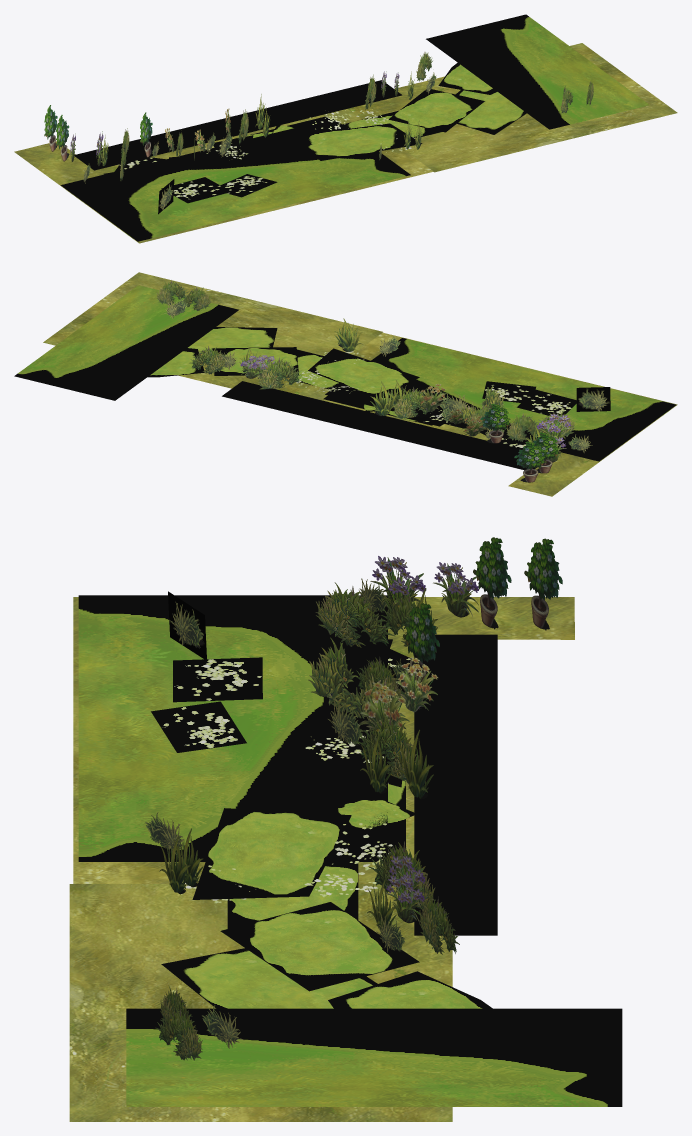
File: K1_tongyicao2.FBX
3 renders of one model, top to bottom at view 1: azimuth 30°, elevation 25°; view 2: azimuth 150°, elevation 25°; view 3: azimuth 270°, elevation 25°, orthographic. The views are drawn at different scales.
Visible parts, largest first — view 1: k1_weeds_caoping065, k1_weeds_caoping075, k1_weeds_caoping066, k1_weeds_caoping026, k1_weeds_caoping048, k1_weeds_caoping022, k1_zacao_2599, k1_weeds_caoping024, k1_weeds_caoping045, k1_weeds_caoping021, k1_zacao_2661, k1_zacao_2704 (+4 smaller); view 2: k1_weeds_caoping065, k1_weeds_caoping066, k1_weeds_caoping075, k1_weeds_caoping026, k1_weeds_caoping048, k1_zacao_2599, k1_weeds_caoping024, k1_zacao_2661, k1_zacao_2704, k1_weeds_caoping022, k1_zacao_2605, k1_zacao_2636 (+11 smaller); view 3: k1_weeds_caoping065, k1_weeds_caoping066, k1_weeds_caoping075, k1_weeds_caoping026, k1_weeds_caoping048, k1_weeds_caoping022, k1_zacao_2599, k1_weeds_caoping024, k1_zacao_2661, k1_weeds_caoping045, k1_weeds_caoping021, k1_zacao_2636 (+16 smaller).
Boxes of the visible parts, left/top/right/bottom form: k1_weeds_caoping065: left=61, top=119, right=410, bottom=241; k1_weeds_caoping075: left=14, top=43, right=677, bottom=243; k1_weeds_caoping066: left=426, top=14, right=649, bottom=129; k1_weeds_caoping026: left=74, top=80, right=402, bottom=170; k1_weeds_caoping048: left=296, top=123, right=422, bottom=160; k1_weeds_caoping022: left=389, top=89, right=484, bottom=132; k1_zacao_2599: left=158, top=174, right=277, bottom=214; k1_weeds_caoping024: left=456, top=90, right=526, bottom=134; k1_weeds_caoping045: left=438, top=62, right=497, bottom=94; k1_weeds_caoping021: left=342, top=110, right=442, bottom=137; k1_zacao_2661: left=204, top=94, right=265, bottom=159; k1_zacao_2704: left=309, top=71, right=414, bottom=152; k1_weeds_caoping065: left=325, top=338, right=676, bottom=461; k1_weeds_caoping066: left=14, top=285, right=238, bottom=400; k1_weeds_caoping075: left=43, top=272, right=677, bottom=496; k1_weeds_caoping026: left=222, top=381, right=537, bottom=470; k1_weeds_caoping048: left=308, top=348, right=419, bottom=397; k1_zacao_2599: left=482, top=381, right=610, bottom=415; k1_weeds_caoping024: left=188, top=327, right=277, bottom=354; k1_zacao_2661: left=370, top=381, right=468, bottom=424; k1_zacao_2704: left=252, top=351, right=369, bottom=393; k1_weeds_caoping022: left=212, top=347, right=298, bottom=375; k1_zacao_2605: left=156, top=280, right=211, bottom=318; k1_zacao_2636: left=506, top=410, right=575, bottom=441; k1_weeds_caoping065: left=78, top=595, right=387, bottom=861; k1_weeds_caoping066: left=126, top=1008, right=622, bottom=1106; k1_weeds_caoping075: left=69, top=597, right=574, bottom=1121; k1_weeds_caoping026: left=414, top=634, right=497, bottom=935; k1_weeds_caoping048: left=192, top=808, right=351, bottom=899; k1_weeds_caoping022: left=220, top=902, right=419, bottom=991; k1_zacao_2599: left=151, top=591, right=262, bottom=752; k1_weeds_caoping024: left=161, top=948, right=377, bottom=1008; k1_zacao_2661: left=305, top=698, right=433, bottom=799; k1_weeds_caoping045: left=328, top=971, right=492, bottom=1008; k1_weeds_caoping021: left=227, top=862, right=358, bottom=928; k1_zacao_2636: left=315, top=582, right=421, bottom=647.
Size of the model in its own units: 2029 by 184 by 902.
